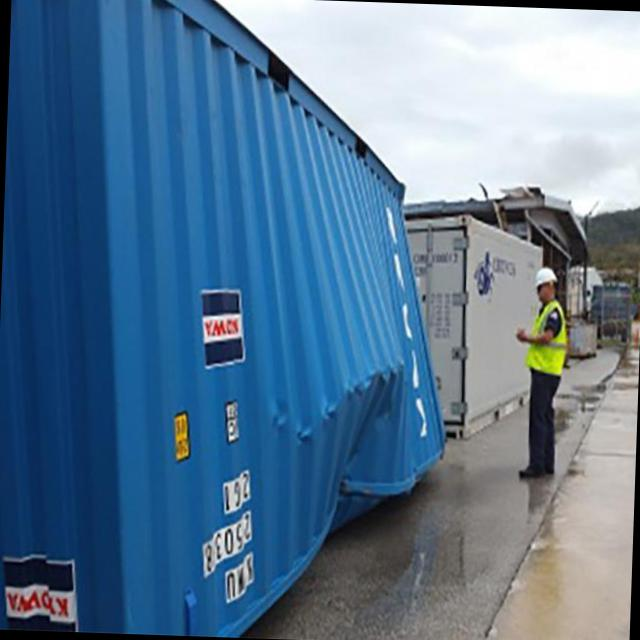Deframe: (87, 4, 445, 634)
